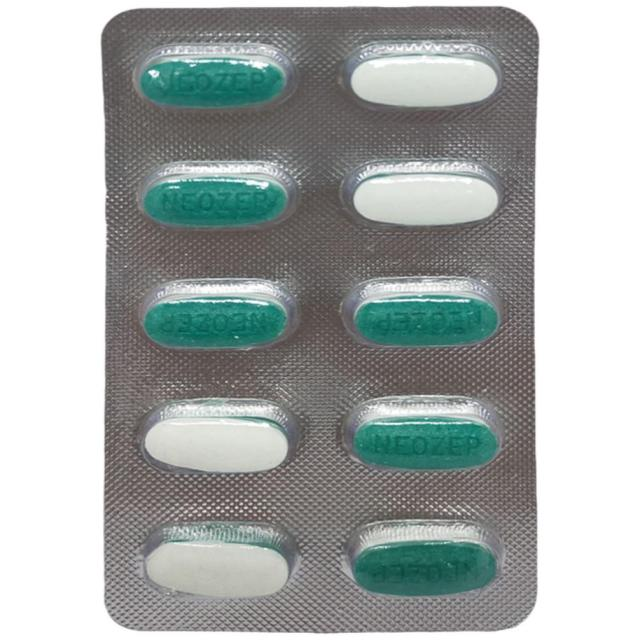blister: (91, 4, 548, 636)
